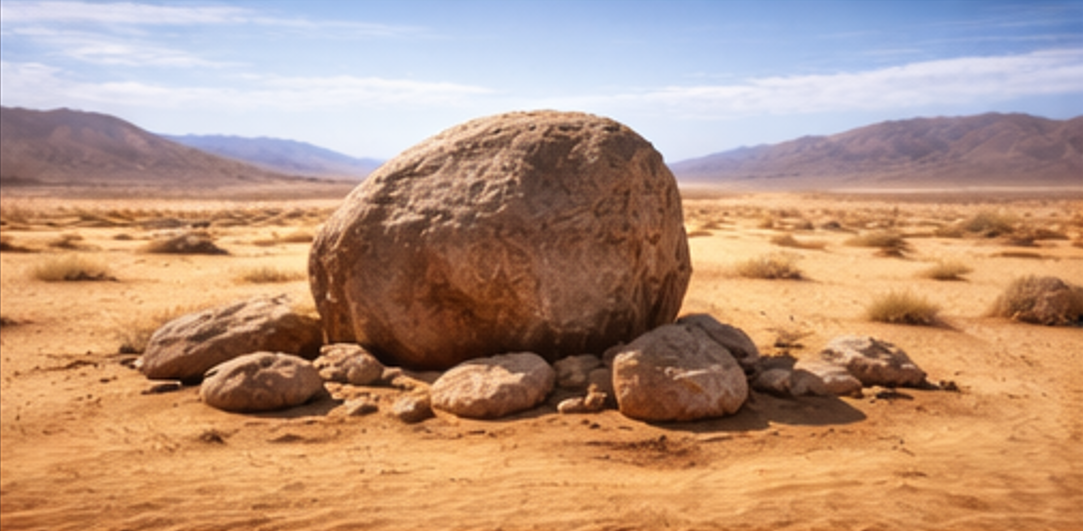rocks: (309, 111, 690, 367), (140, 296, 321, 379), (612, 324, 746, 419), (431, 352, 553, 417), (199, 351, 321, 410), (820, 336, 925, 385), (677, 314, 759, 373), (990, 275, 1082, 324), (312, 342, 384, 385), (803, 364, 809, 369)
